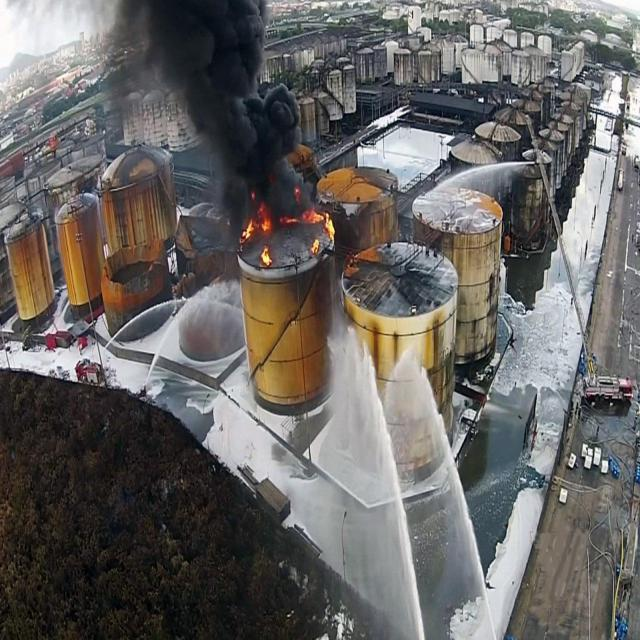Fire: (301, 206, 324, 226), (238, 214, 255, 240), (258, 242, 273, 268), (325, 212, 337, 241), (309, 238, 321, 254), (260, 216, 270, 234)
Smoke: (105, 2, 315, 203)
